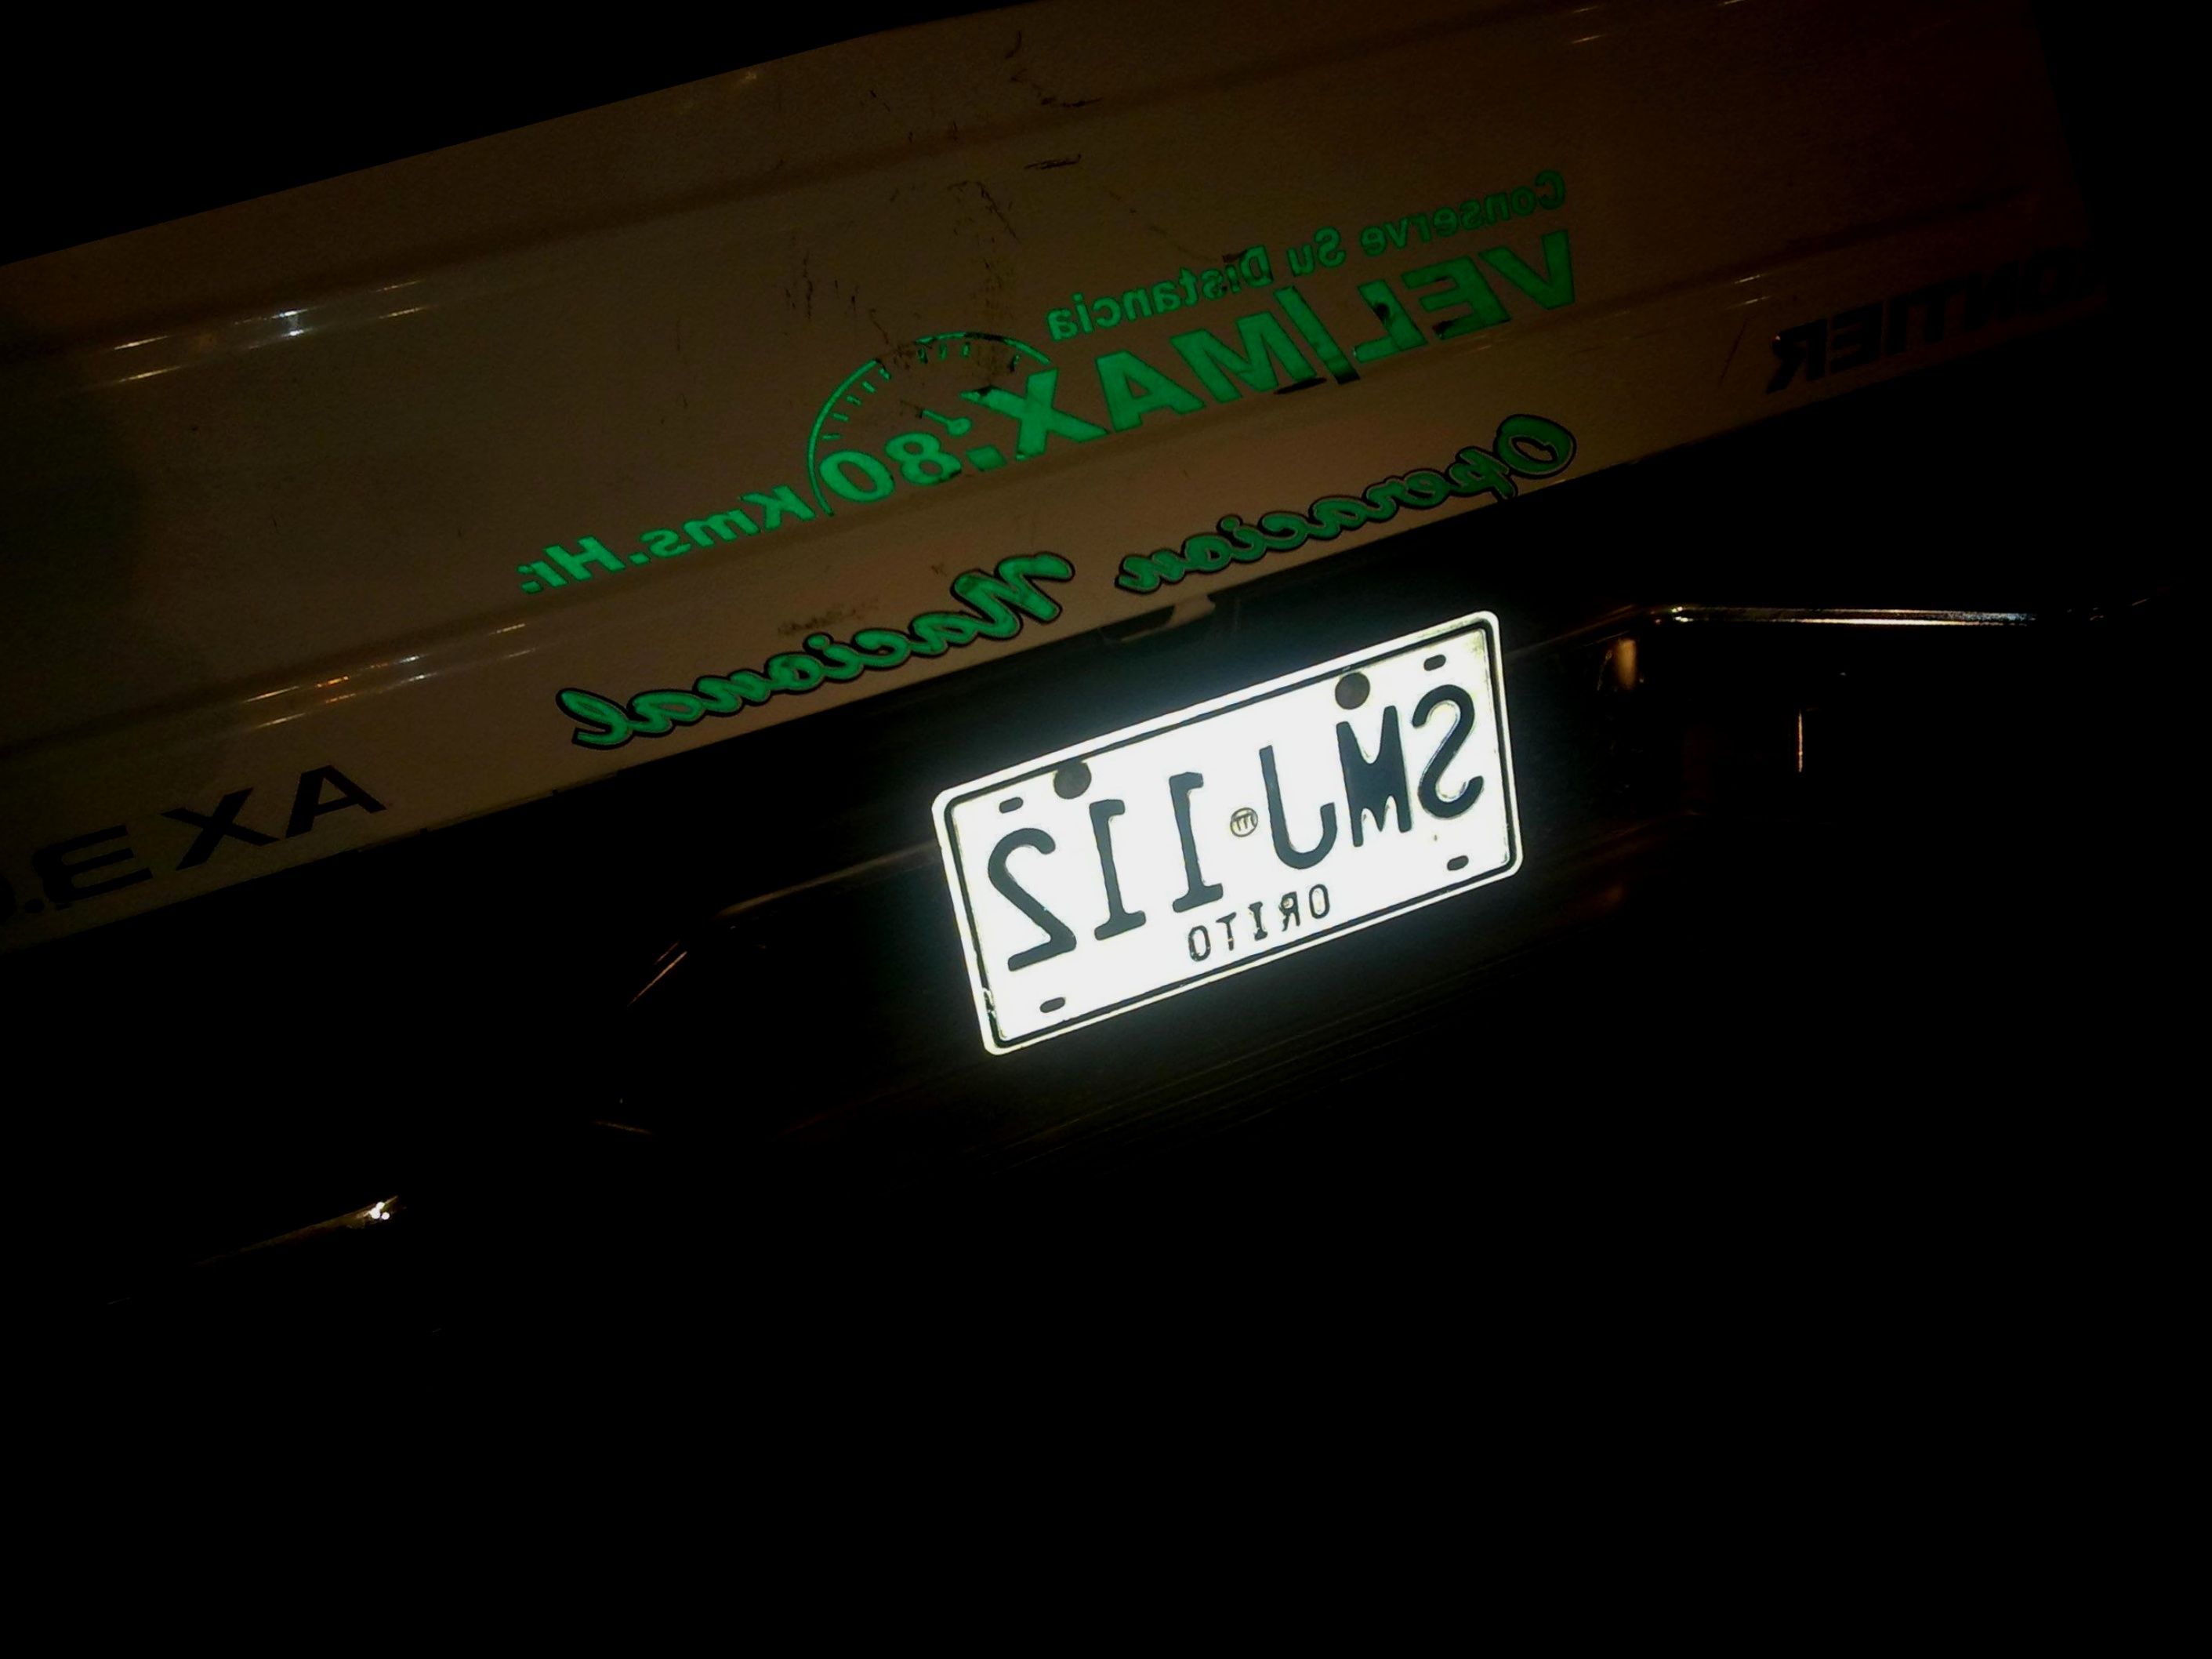placas: (903, 600, 1577, 1066)
